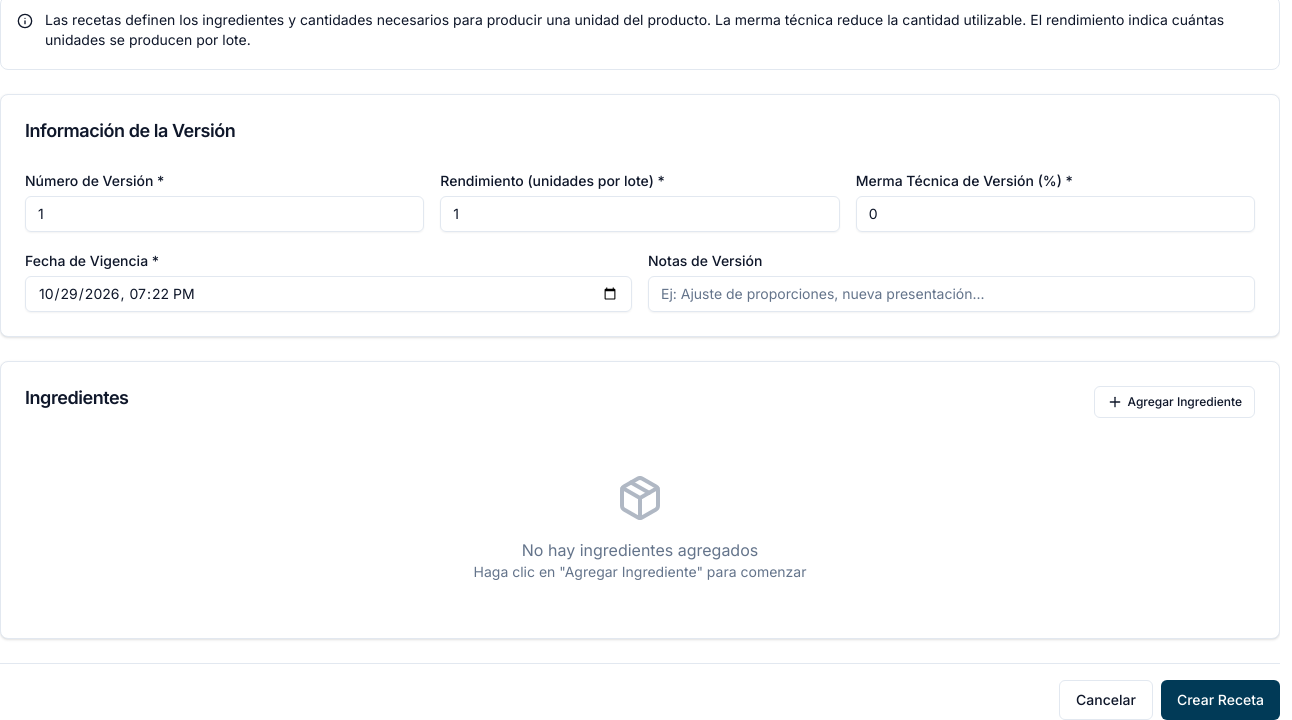
Test: W7 — RecipeForm › allows adding ingredients
Click the button "Agregar Ingrediente": (1175, 402) [1094,386,1255,418]
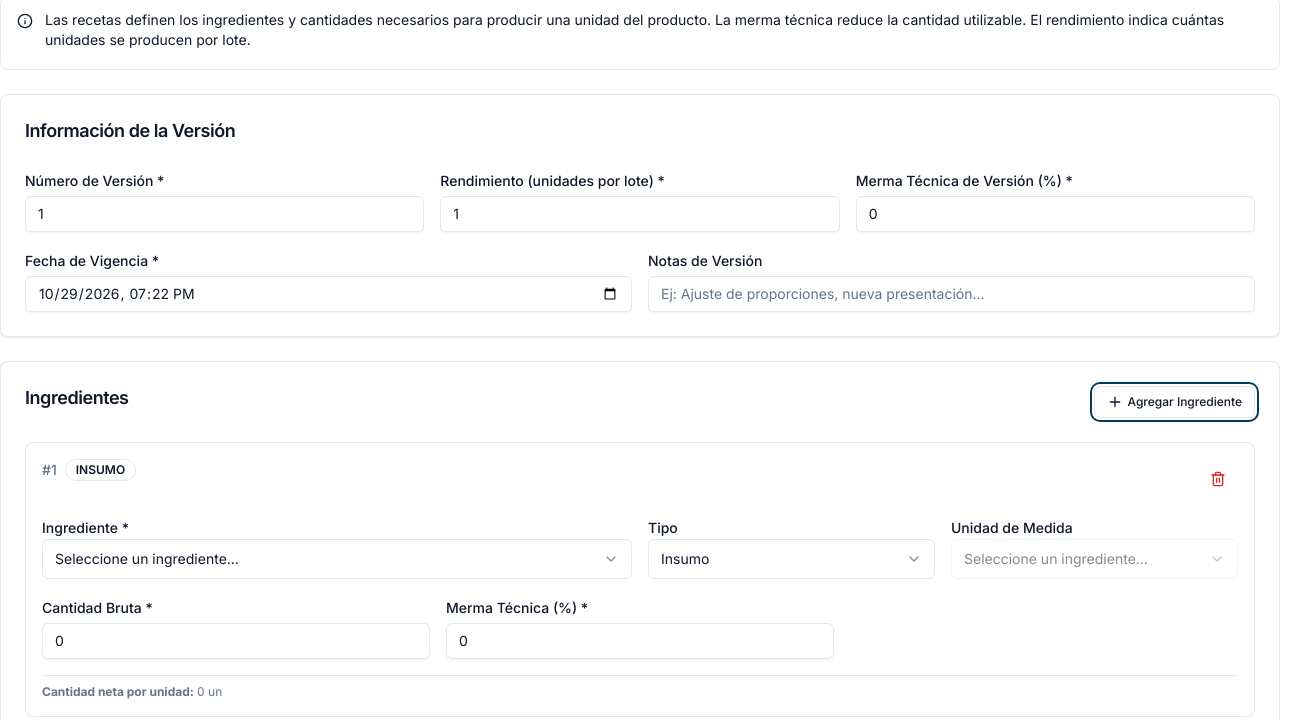
Check: the dropdown named "Ingrediente *" is shown, box [42,539,632,579]
